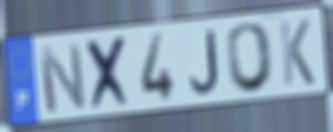4: (138, 31, 178, 105)
J: (187, 27, 222, 97)
K: (277, 17, 317, 88)
N: (36, 41, 89, 116)
O: (225, 20, 277, 96)
X: (84, 33, 135, 113)
